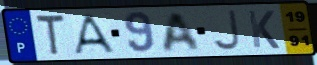9: (122, 10, 157, 56)
A: (72, 13, 118, 56), (161, 11, 203, 54)
J: (210, 9, 242, 52)
K: (246, 9, 282, 50)
T: (33, 13, 67, 58)
